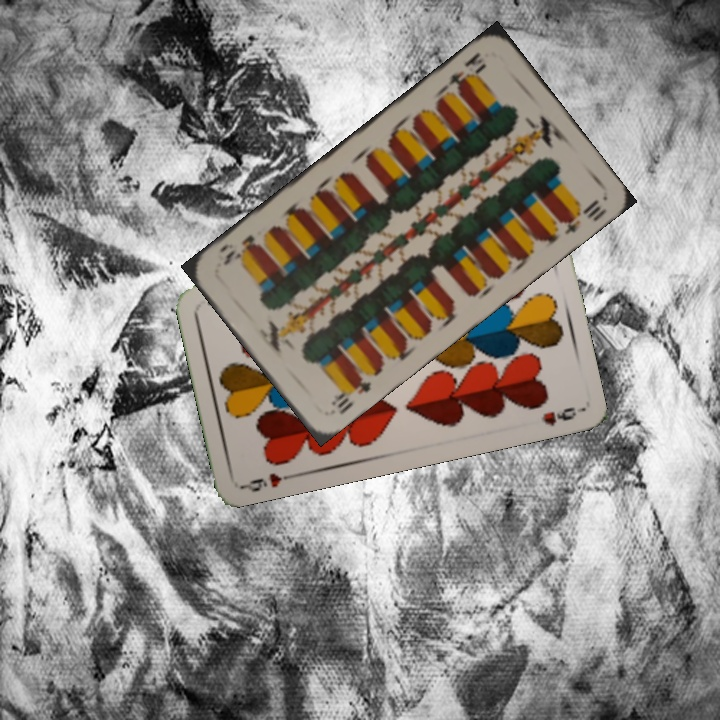E10: (440, 48, 489, 95), (326, 371, 374, 418)
H9: (240, 468, 298, 495)
